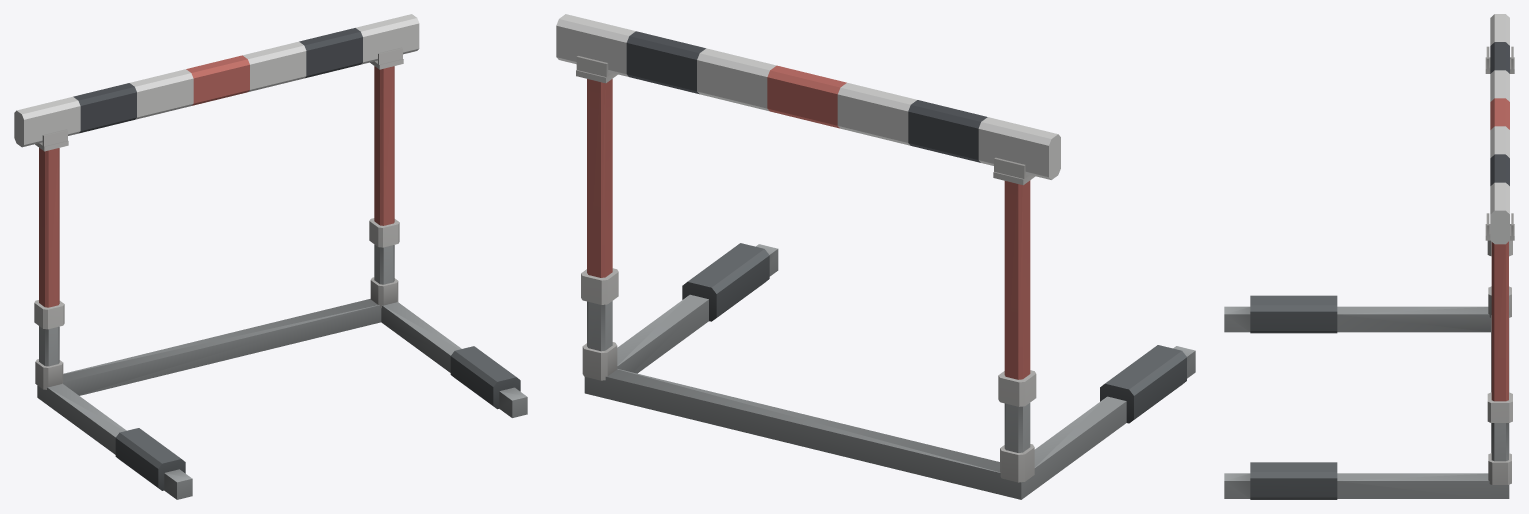
Rendered from hurdle.glb.
3 renders of one model, left to right at view 1: azimuth 30°, elevation 25°; view 2: azimuth 150°, elevation 25°; view 3: azimuth 270°, elevation 25°, orthographic. The views are drawn at different scales.
Visible parts, largest first — view 1: hurdle; view 2: hurdle; view 3: hurdle.
Boxes of the visible parts, <box> form: hurdle: <box>14,14,527,499</box>; hurdle: <box>556,14,1195,499</box>; hurdle: <box>1224,14,1514,499</box>.
Size of the model in its own units: 1.3 by 0.9218 by 0.8107.
